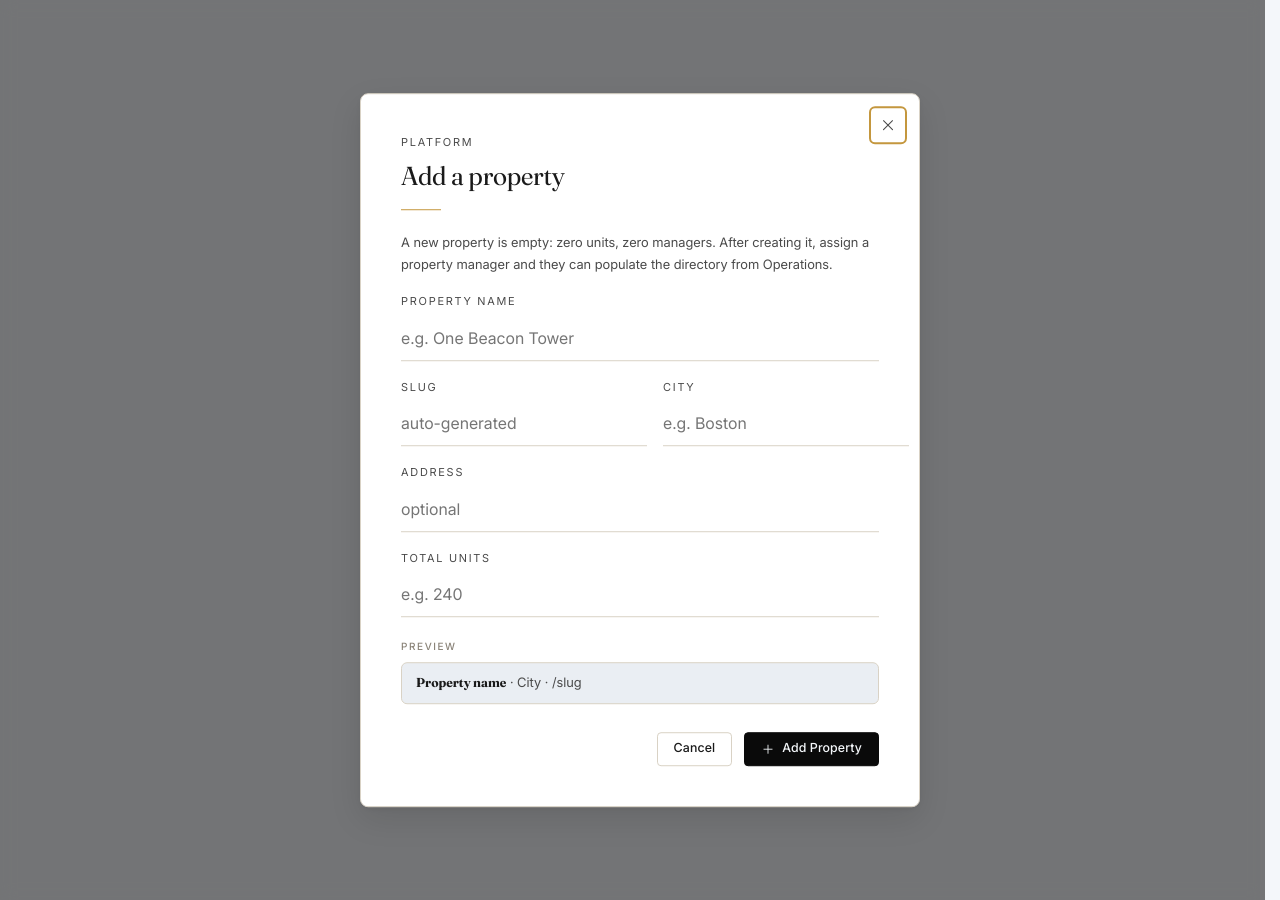
AddPropertyModal › blocks save when required fields are empty
Click the button "Add Property".
click(812, 749)  # box [744, 732, 879, 766]
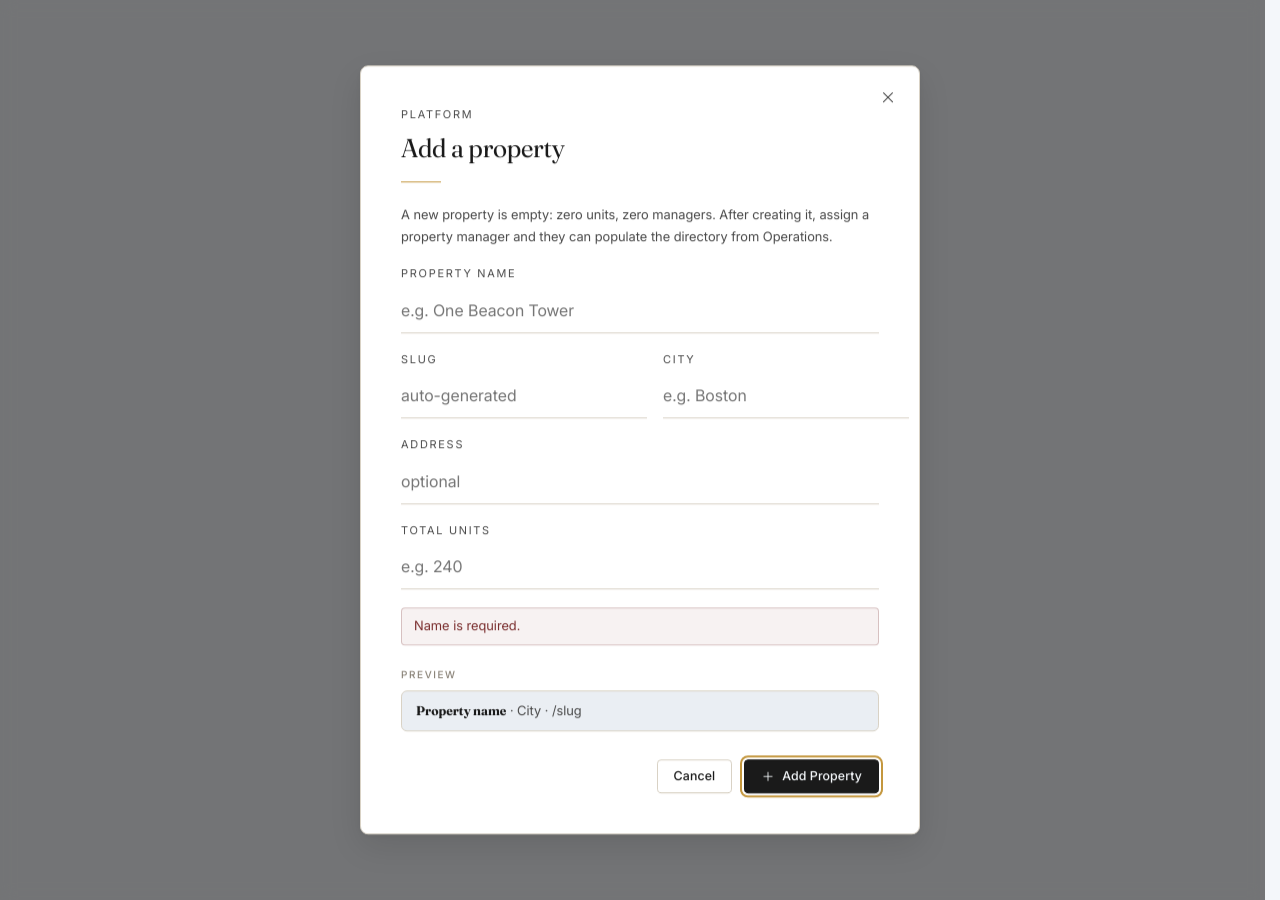
Expected: the text "Name is required." is shown, [401, 608, 879, 645]
